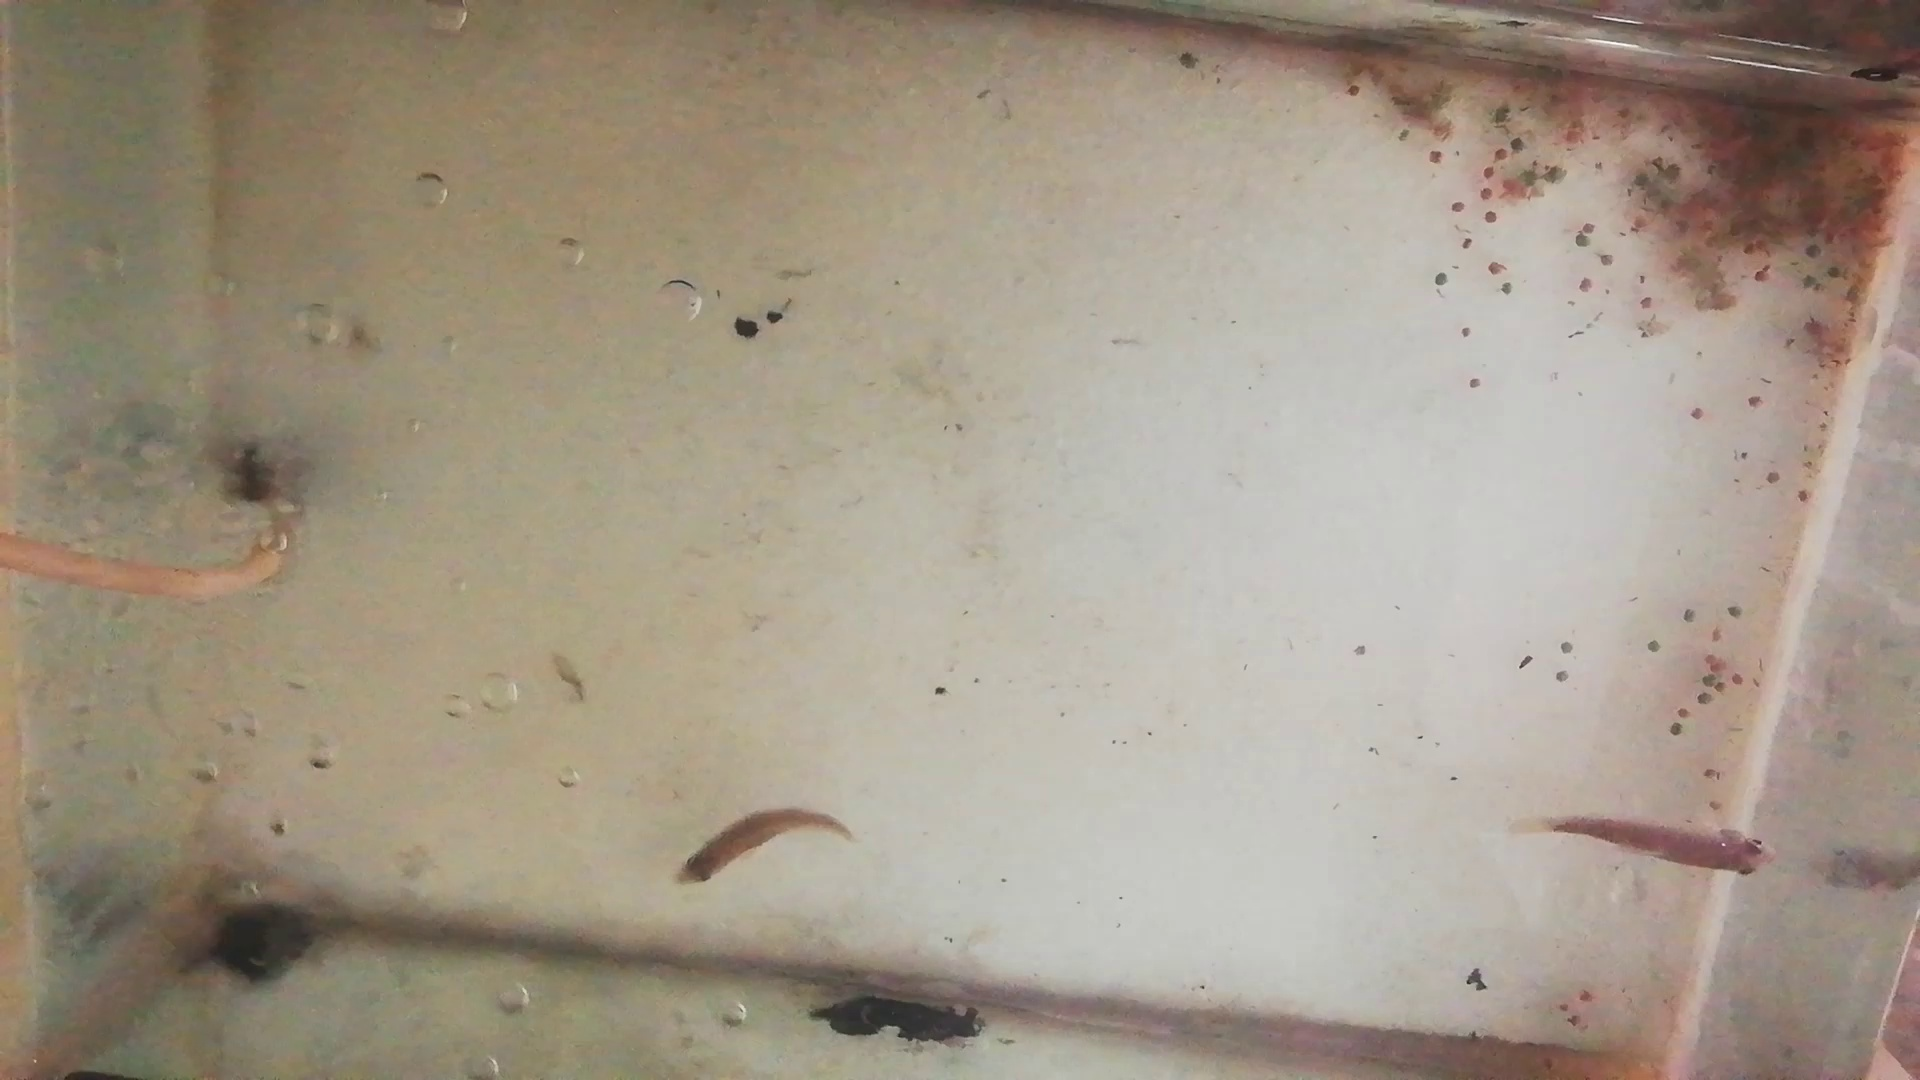fish: (1557, 812, 1778, 881), (678, 804, 852, 885)
